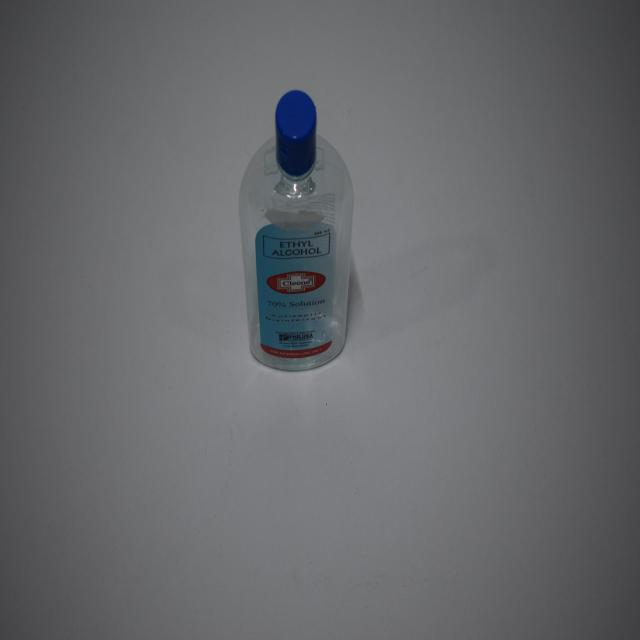bottle: (242, 80, 361, 378)
